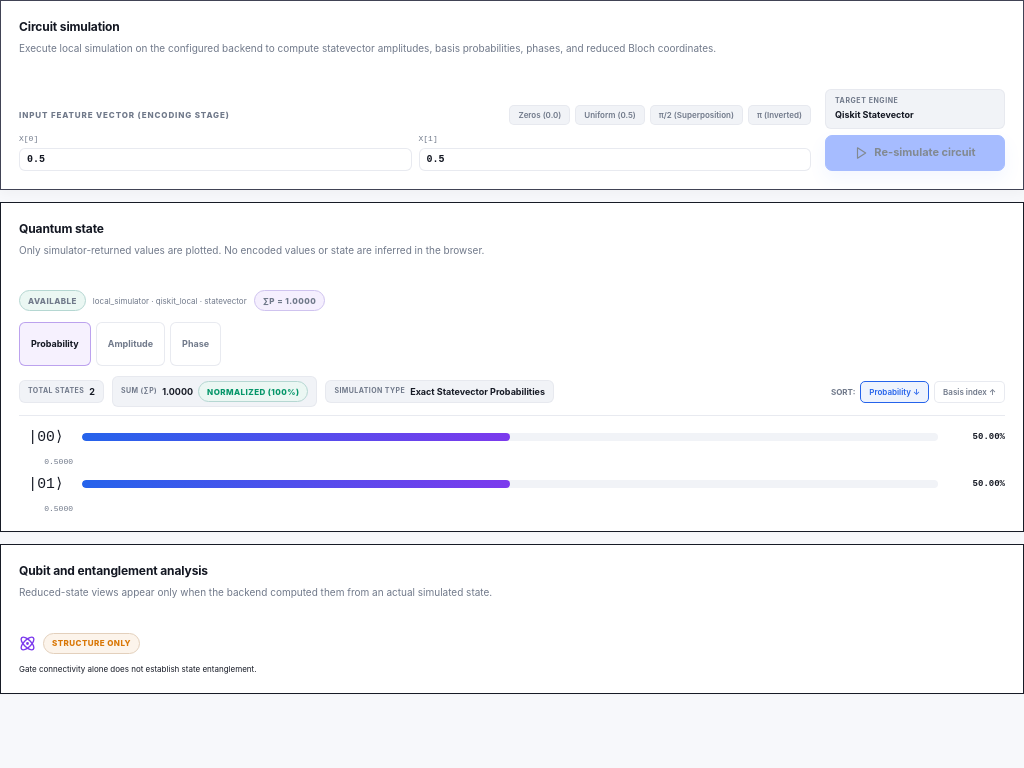
Test case: QuantumStatePanel Component › renders complex amplitudes with formatted signs, magnitude bars, and sorting
Click the tab "Amplitude": [130, 344] box [96, 322, 165, 366]
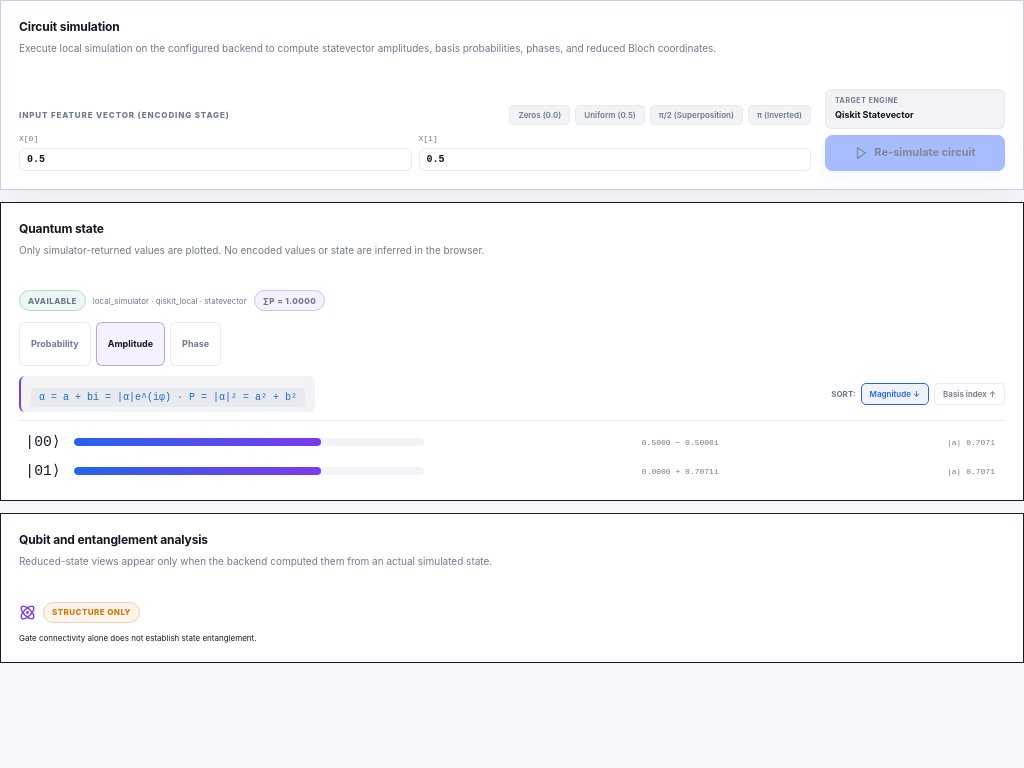
Result: the text "0.5000 − 0.5000i" is shown at [642, 438, 719, 446]
Result: the text "0.0000 + 0.7071i" is shown at [642, 467, 719, 476]
Result: the text "|a| 0.7071" is shown 2 times at [947, 438, 995, 446]; [947, 467, 995, 476]
